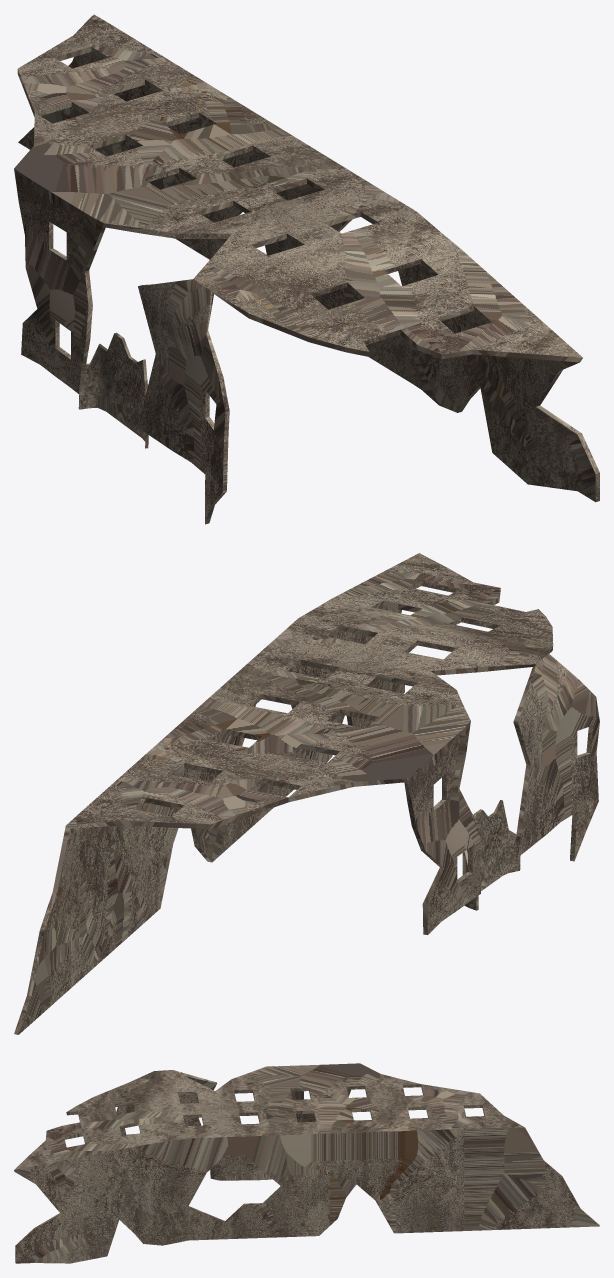
The model's file is EdificioGrande.obj.
The picture shows the model from 3 angles, top to bottom: view 1: azimuth 30°, elevation 25°; view 2: azimuth 150°, elevation 25°; view 3: azimuth 270°, elevation 25°; orthographic projection. The views are drawn at different scales.
Visible parts, largest first — view 1: Box108; view 2: Box108; view 3: Box108.
Boxes of the visible parts, <box> form: Box108: <box>14,14,599,524</box>; Box108: <box>14,553,599,1034</box>; Box108: <box>14,1063,599,1263</box>.
Bounding box in the file's own units: 143 × 100 × 401.
